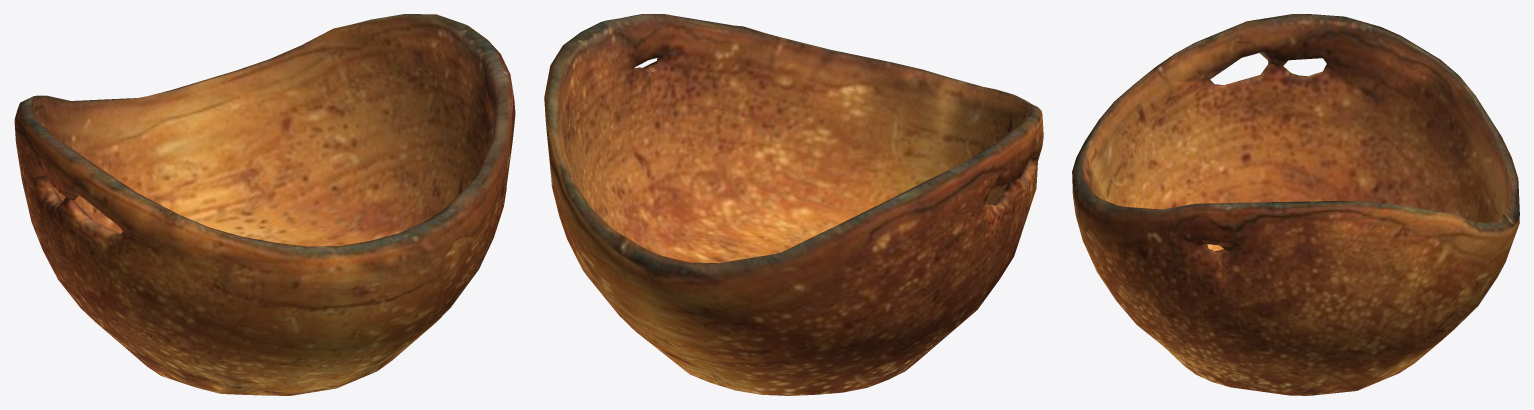
File: wooden_bowl_02.glb
3 renders of one model, left to right at view 1: azimuth 30°, elevation 25°; view 2: azimuth 150°, elevation 25°; view 3: azimuth 270°, elevation 25°, orthographic. The views are drawn at different scales.
Visible parts, largest first — view 1: wooden_bowl_02; view 2: wooden_bowl_02; view 3: wooden_bowl_02.
Part boxes in pixels (x1=…): wooden_bowl_02: x1=14, y1=14, x2=515, y2=395; wooden_bowl_02: x1=544, y1=14, x2=1043, y2=395; wooden_bowl_02: x1=1072, y1=14, x2=1519, y2=395.
Bounding box in the file's own units: 0.1306 × 0.0731 × 0.124.
1 material, 1 textured.
